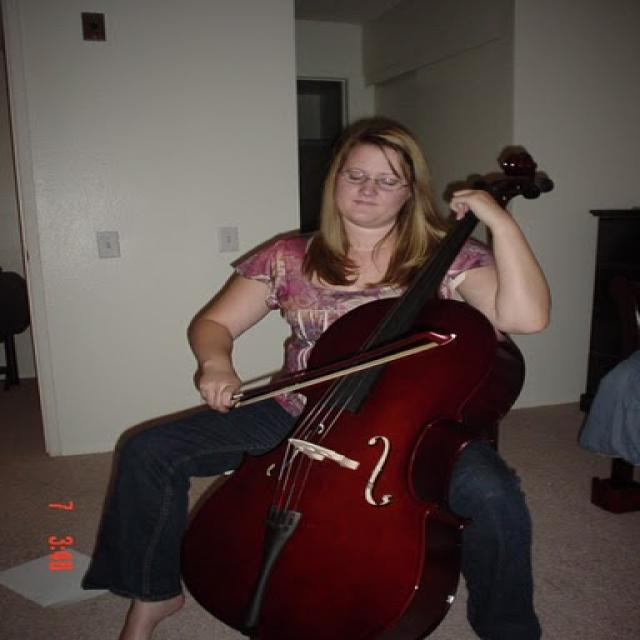cello: (174, 147, 552, 640)
